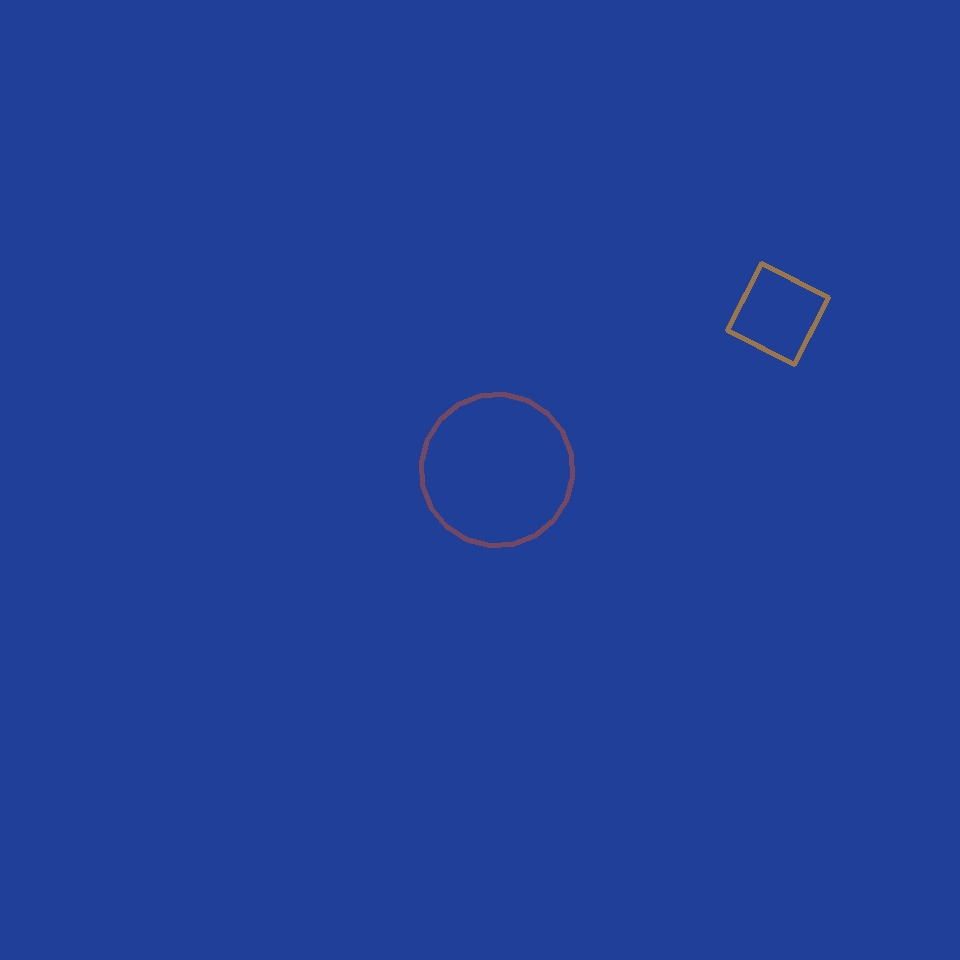square: (728, 264, 828, 364)
triangle: (422, 394, 572, 546)
